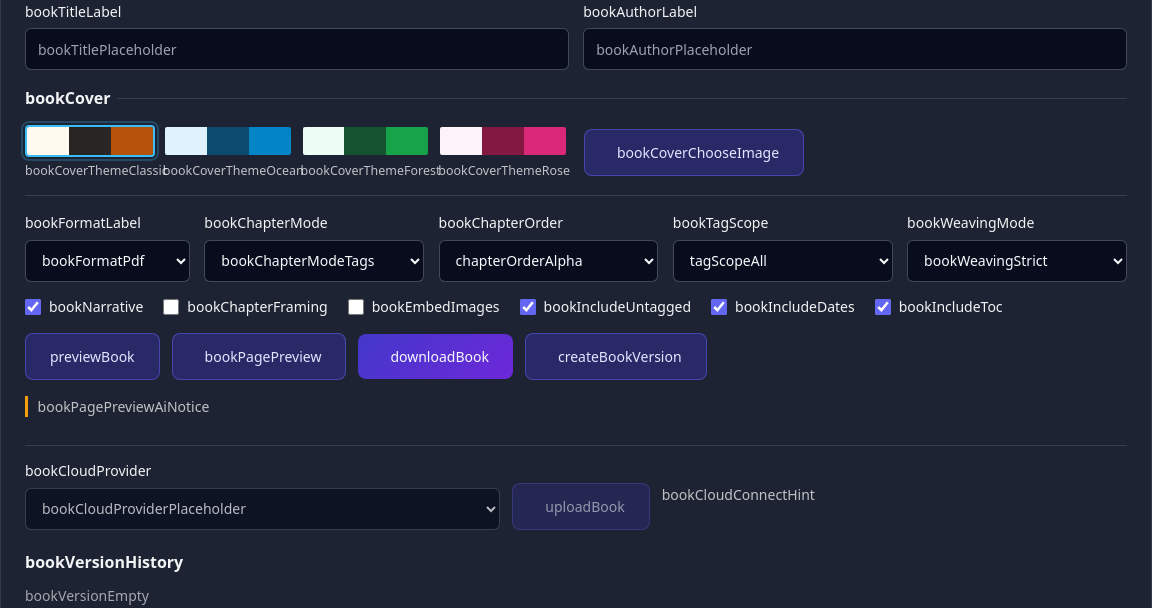
Test case: ImportExport book section › downloads the book with the selected format and options
The image size is (1152, 608).
(page scrolled)
Select "bookFormatHtml" in the dropdown labelled "bookFormatLabel": (107, 261) [25,240,190,282]
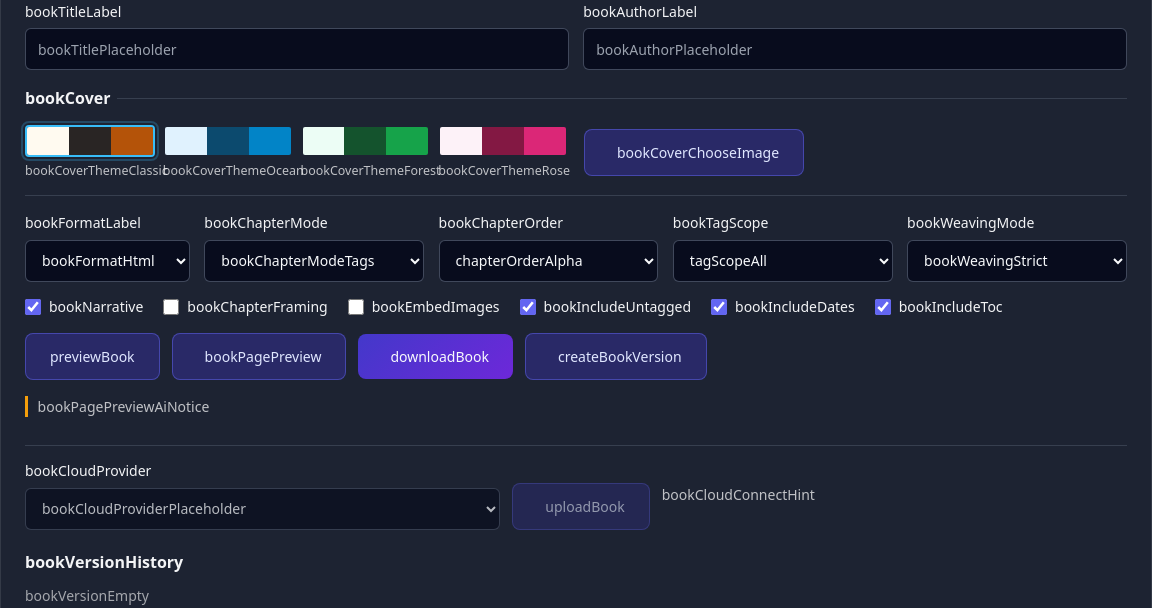
Select "tagScopeFirst" in the dropdown labelled "bookTagScope": (783, 261) [673,240,893,282]
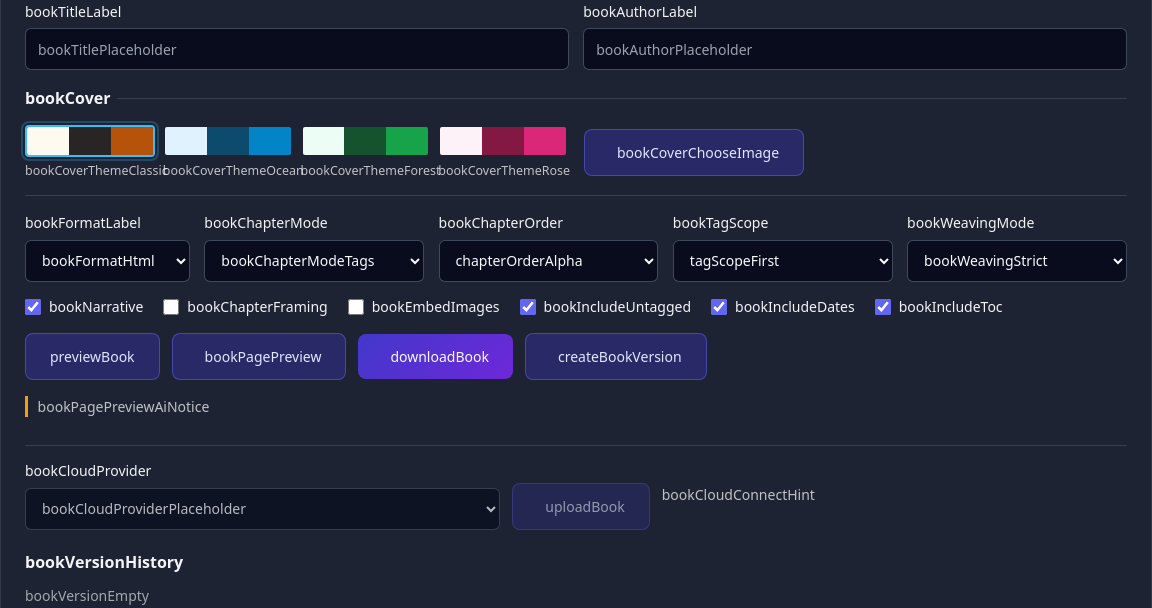
Click the text "bookIncludeToc": (939, 307) [875,298,1003,317]
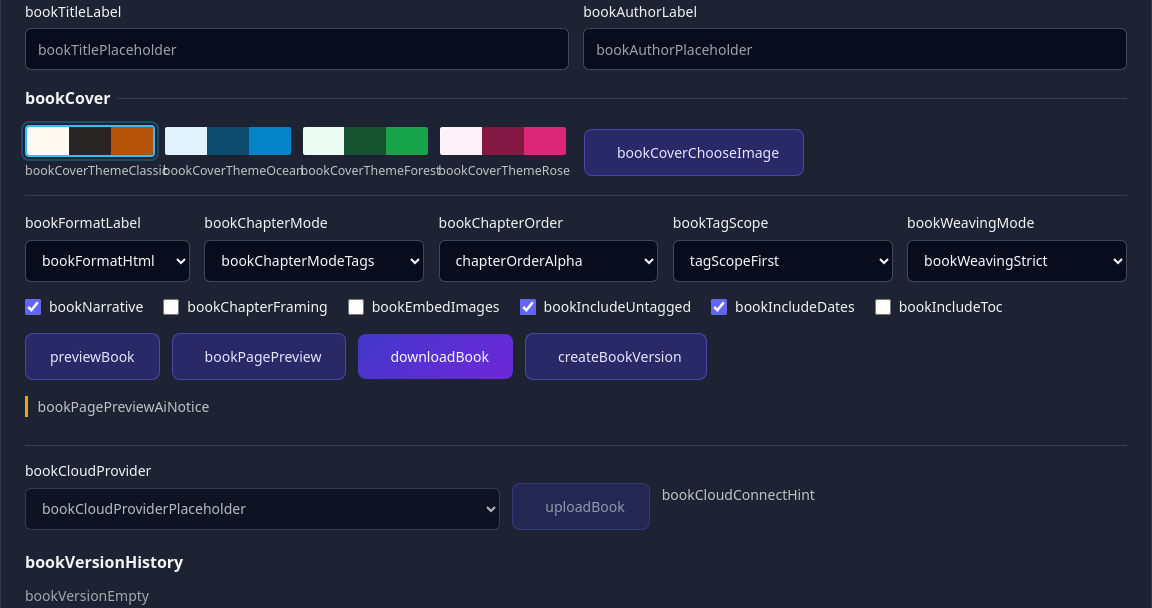
Click the button "downloadBook": (436, 356) [358,334,513,379]
(page scrolled)
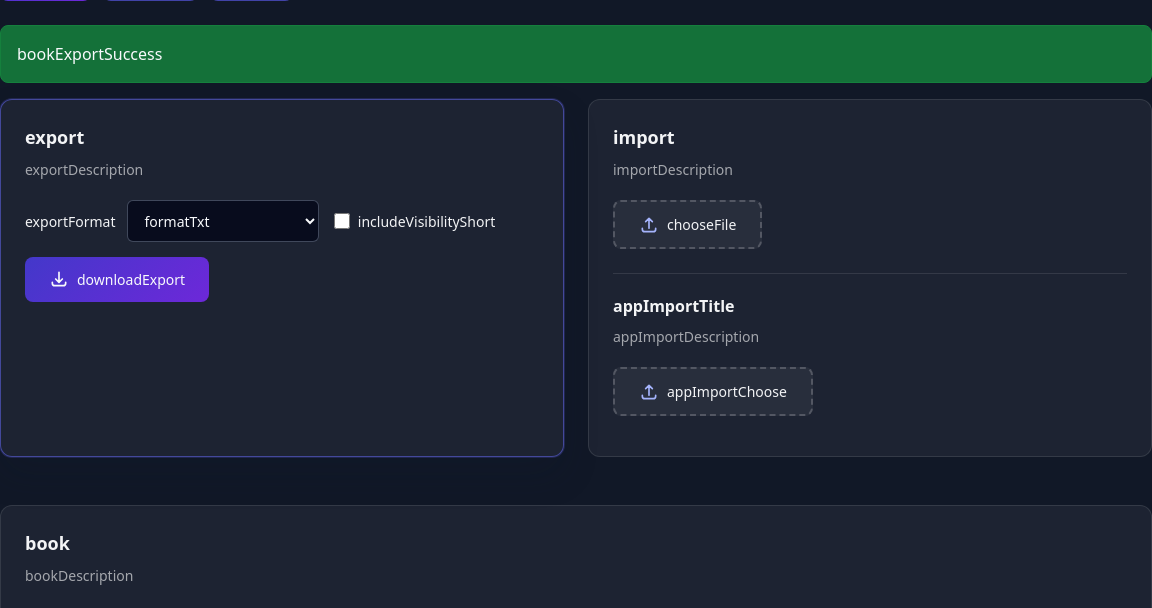
Check: the text "bookExportSuccess" is shown, box [0,25,1151,83]
